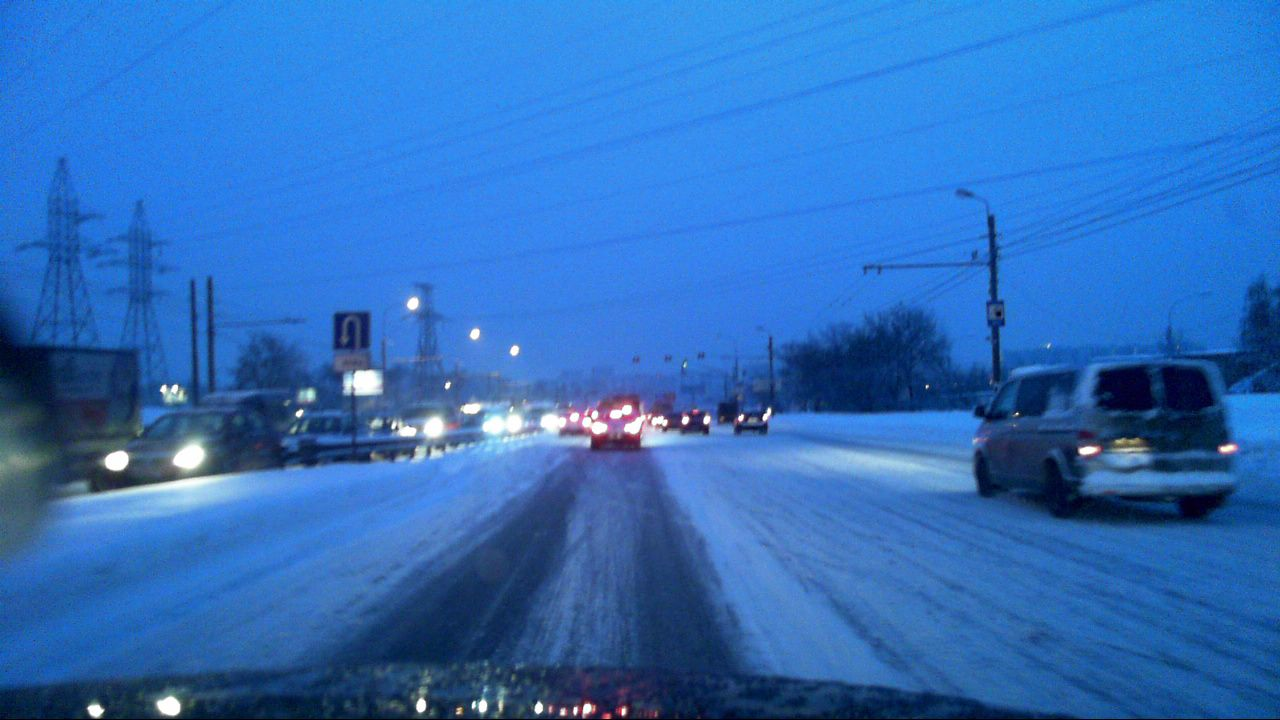U-turn: (336, 313, 368, 350)
